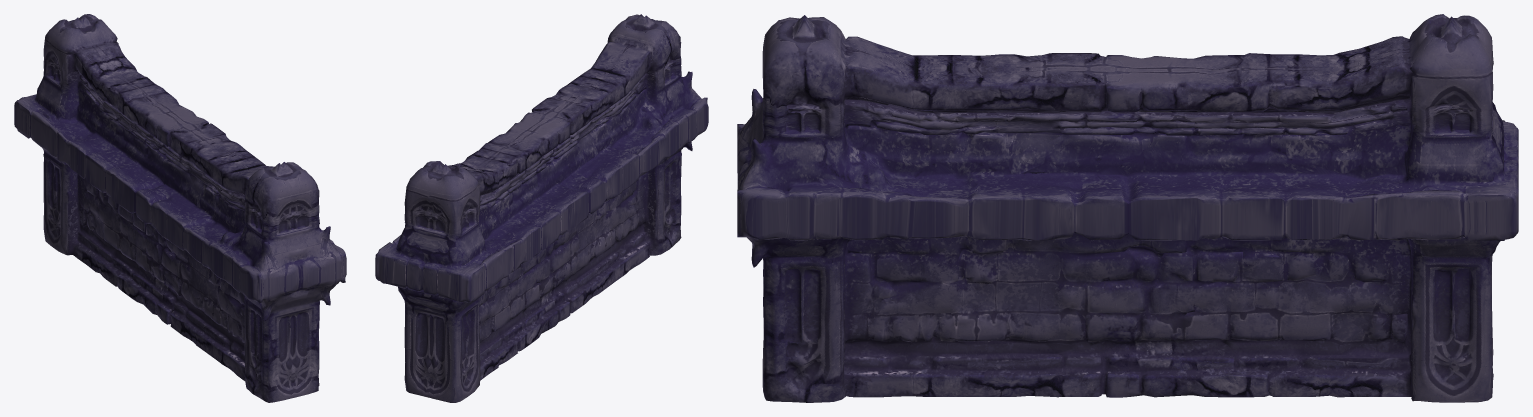
File: WallS1b.fbx
The picture shows the model from 3 angles, left to right: view 1: azimuth 30°, elevation 25°; view 2: azimuth 150°, elevation 25°; view 3: azimuth 270°, elevation 25°; orthographic projection. The views are drawn at different scales.
Visible parts, largest first — view 1: WallS1b; view 2: WallS1b; view 3: WallS1b.
Boxes of the visible parts, x1,y1,x2,y2 form: WallS1b: [14, 14, 346, 402]; WallS1b: [375, 14, 708, 402]; WallS1b: [737, 14, 1518, 402].
Bounding box in the file's own units: 1.32 × 3 × 5.83.
1 material, 1 textured.
